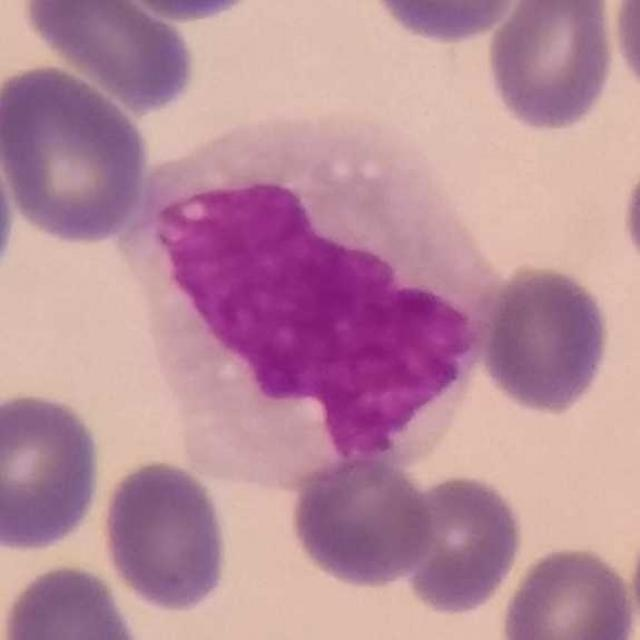Monocyte: (129, 100, 505, 487)
RBC: (0, 59, 152, 248), (97, 456, 234, 616), (476, 261, 614, 418), (285, 452, 437, 592), (16, 0, 199, 112), (394, 470, 528, 619), (483, 0, 620, 136), (0, 388, 107, 554), (496, 541, 639, 640), (1, 558, 143, 640), (365, 0, 524, 47), (94, 0, 276, 24), (0, 106, 19, 302), (617, 141, 640, 287), (609, 0, 640, 104)
